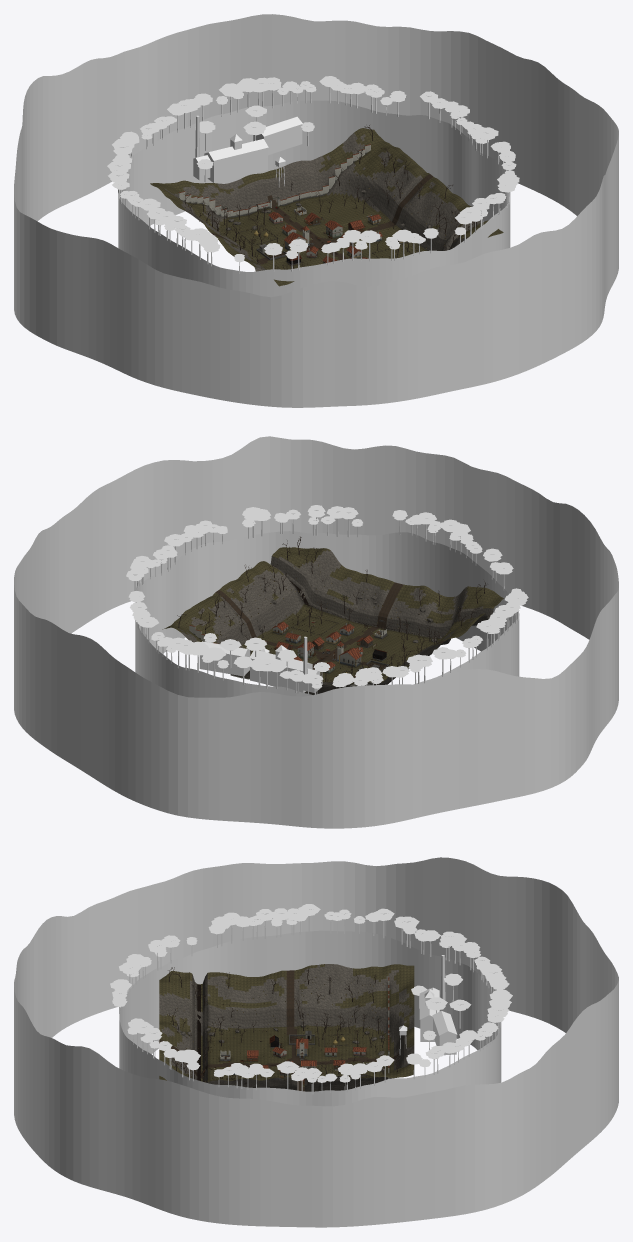
The model's file is vilarejo.glb.
The picture shows the model from 3 angles, top to bottom: view 1: azimuth 30°, elevation 25°; view 2: azimuth 150°, elevation 25°; view 3: azimuth 270°, elevation 25°; orthographic projection.
Parts seen in each view (by area): view 1: silhueta_longe, silhueta_perto, terreno-col, colonia_silhueta, muro_colonia-col; view 2: silhueta_longe, silhueta_perto, terreno-col, colonia_silhueta; view 3: silhueta_longe, silhueta_perto, terreno-col, colonia_silhueta.
Part boxes in pixels (x1=…): silhueta_longe: x1=14, y1=14, x2=618, y2=407; silhueta_perto: x1=107, y1=76, x2=519, y2=297; terreno-col: x1=150, y1=128, x2=503, y2=286; colonia_silhueta: x1=193, y1=105, x2=314, y2=187; muro_colonia-col: x1=178, y1=144, x2=370, y2=217; silhueta_longe: x1=14, y1=436, x2=618, y2=828; silhueta_perto: x1=126, y1=505, x2=528, y2=697; terreno-col: x1=162, y1=547, x2=503, y2=694; colonia_silhueta: x1=199, y1=633, x2=330, y2=692; silhueta_longe: x1=14, y1=857, x2=618, y2=1227; silhueta_perto: x1=110, y1=904, x2=512, y2=1106; terreno-col: x1=159, y1=964, x2=414, y2=1091; colonia_silhueta: x1=399, y1=955, x2=471, y2=1055.
Size of what is drawn, in the model's own units: 353 by 91.6 by 356.
72 materials, 68 textured.
